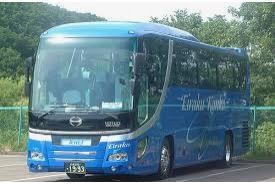bus: (26, 21, 252, 179)
